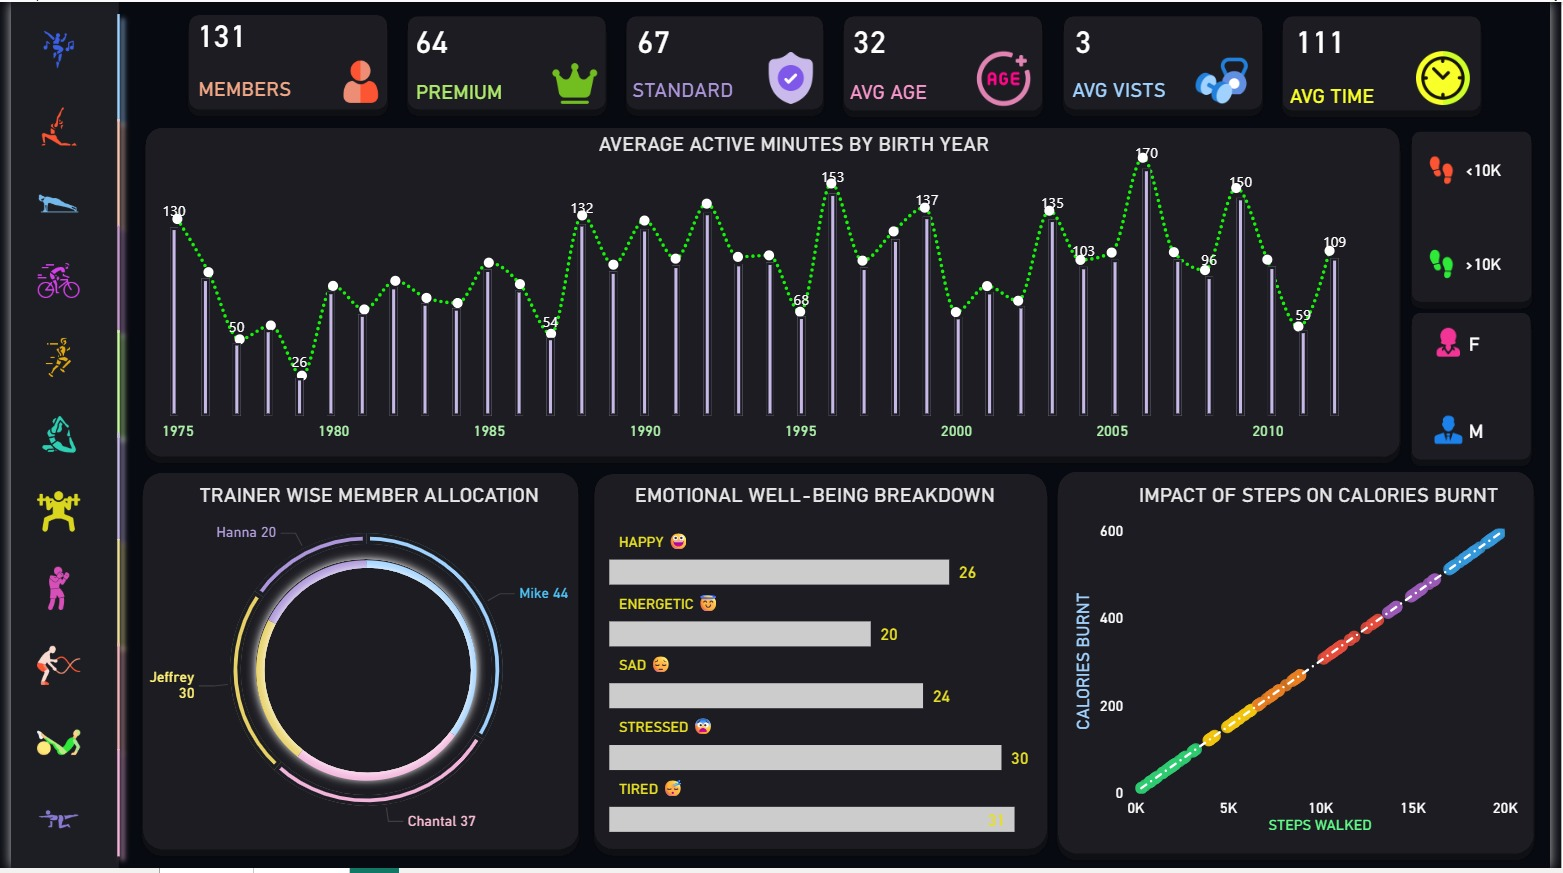

What the dashboard file says about the page in this screenshot:
{"tool":"powerbi","page":{"name":"Page 1","canvas":[1280,720],"ordinal":0},"visuals":[{"type":"shape","box":[163,4,175,96],"z":0,"group":"g8"},{"type":"shape","box":[344.3,4,175,96.7],"z":0,"group":"g9"},{"type":"shape","box":[526,4,175,96.7],"z":0,"group":"g10"},{"type":"shape","box":[706,4,175,96],"z":0,"group":"g11"},{"type":"shape","box":[888.3,4,175,96],"z":0,"group":"g12"},{"type":"shape","box":[1072.6,4,163.4,96.7],"z":0,"group":"g13"},{"type":"shape","box":[119,5,21.7,710],"z":0},{"type":"shape","box":[1149,104,121,153],"z":0,"group":"g7"},{"type":"shape","box":[151,106,987.6,302.9],"z":0,"group":"g5"},{"type":"shape","box":[1149,260,121,153],"z":0,"group":"g6"},{"type":"shape","box":[144.3,416,349.1,295],"z":0,"group":"g2"},{"type":"shape","box":[504,416,365,295],"z":0,"group":"g3"},{"type":"shape","box":[878,416,396.8,295],"z":0,"group":"g4"},{"type":"advancedSlicerVisual","fields":{"Values":["Gym Dataset (2).Value"]},"box":[25.4,0,109,719.4],"z":1000},{"type":"card","fields":{"Values":["Exercise.mem_count"]},"box":[163,4,77.1,54.1],"z":1000,"group":"g8"},{"type":"card","fields":{"Values":["Exercise.premium"]},"box":[333.3,4,82.7,49.1],"z":1000,"group":"g9"},{"type":"card","fields":{"Values":["Exercise.premium"]},"box":[516.5,4,81.3,49.1],"z":1000,"group":"g10"},{"type":"card","fields":{"Values":["Exercise.Avg_age"]},"box":[699.7,4,69.2,47.6],"z":1000,"group":"g11"},{"type":"card","fields":{"Values":["Exercise.Avg_visits"]},"box":[879,4,78.2,47.6],"z":1000,"group":"g12"},{"type":"card","fields":{"Values":["Exercise.Avg_time"]},"box":[1061,4,87.5,49.1],"z":1000,"group":"g13"},{"type":"advancedSlicerVisual","fields":{"Values":["Gym Dataset.steps_cat"]},"box":[1150,107.6,118.3,147],"z":1000,"group":"g7"},{"type":"lineClusteredColumnComboChart","title":"AVERAGE ACTIVE MINUTES BY BIRTH YEAR","fields":{"Category":["Gym Dataset.birthday.Variation.Date Hierarchy.Year"],"Y":["Exercise.Avg_Active_Minutes_Column"],"Y2":["Exercise.Avg_Active_Minutes_Line"]},"box":[158.2,109.7,971,304.3],"z":1000,"group":"g5"},{"type":"advancedSlicerVisual","fields":{"Values":["Gym Dataset.gender"]},"box":[1150,263,119.9,148.3],"z":1000,"group":"g6"},{"type":"group","id":"g1","title":"visuals","box":[129,412,387.8,304.2],"z":1000,"group":"g2"},{"type":"donutChart","title":"TRAINER WISE MEMBER ALLOCATION","fields":{"Category":["Gym Dataset.name_personal_trainer"],"Y":["CountNonNull(Gym Dataset.id)"]},"box":[129,418.2,387.8,298],"z":1000,"group":"g1"},{"type":"clusteredBarChart","title":"EMOTIONAL WELL-BEING BREAKDOWN","fields":{"Category":["Gym Dataset.mood"],"Y":["CountNonNull(Gym Dataset.mood)","CountNonNull(Gym Dataset.id)"]},"box":[516.7,437.7,357,266.4],"z":1000,"group":"g3"},{"type":"actionButton","box":[545,412,313.8,41.3],"z":1500,"group":"g3"},{"type":"actionButton","box":[924,412,342.5,41.7],"z":1500,"group":"g4"},{"type":"shape","box":[234,477.6,178,178],"z":1500,"group":"g1"},{"type":"image","box":[277,50.8,69.7,47],"z":2000,"group":"g8"},{"type":"actionButton","box":[719.3,51.6,150.2,47.6],"z":2000,"group":"g11"},{"type":"actionButton","box":[892.3,53,159.1,47.6],"z":2000,"group":"g12"},{"type":"actionButton","box":[351.2,53.1,157.1,46.2],"z":2000,"group":"g9"},{"type":"actionButton","box":[528.9,53.1,162.6,46.2],"z":2000,"group":"g10"},{"type":"actionButton","box":[1072.6,53.1,151.8,49.1],"z":2000,"group":"g13"},{"type":"actionButton","box":[449.4,105.1,407.7,45.3],"z":2000,"group":"g5"},{"type":"group","id":"g2","title":"donut","box":[129,412,387.8,304.2],"z":2000},{"type":"donutChart","fields":{"Category":["Gym Dataset.name_personal_trainer"],"Y":["CountNonNull(Gym Dataset.id)"]},"box":[179,459,286.8,215],"z":2000,"group":"g1"},{"type":"actionButton","box":[172,412,293.7,41.3],"z":2500,"group":"g1"},{"type":"image","box":[1173,46,60.5,49.1],"z":3000,"group":"g13"},{"type":"image","box":[818,48.8,61.4,47.6],"z":3000,"group":"g11"},{"type":"image","box":[1004,48.8,62.3,47.6],"z":3000,"group":"g12"},{"type":"image","box":[642,50.2,64.8,49.1],"z":3000,"group":"g10"},{"type":"image","box":[457,53.1,64.8,49.1],"z":3000,"group":"g9"},{"type":"actionButton","box":[163,53.7,172,48.3],"z":3000,"group":"g8"},{"type":"group","id":"g3","title":"bar","box":[504,412,369.7,299],"z":3000},{"type":"group","id":"g4","title":"line","box":[878,412,396.8,299],"z":4000},{"type":"group","id":"g5","title":"birth year","box":[151,105.1,987.6,308.9],"z":5000},{"type":"group","id":"g6","title":"gender","box":[1149,260,121,153],"z":6000},{"type":"group","id":"g7","title":"steps","box":[1149,104,121,153],"z":7000},{"type":"group","id":"g8","title":"members","box":[163,4,183.7,98],"z":8000},{"type":"group","id":"g9","title":"premium","box":[333.3,4,188.5,98.1],"z":9000},{"type":"group","id":"g10","title":"standard","box":[516.5,4,190.3,96.7],"z":10000},{"type":"group","id":"g11","title":"age","box":[699.7,4,181.3,96],"z":11000},{"type":"group","id":"g12","title":"visits","box":[879,4,187.3,96.6],"z":12000},{"type":"group","id":"g13","title":"time","box":[1061,4,175,98.1],"z":13000},{"type":"lineChart","fields":{"Category":["Gym Dataset.steps"],"Y":["Sum(Gym Dataset.calories_burned)"],"Series":["Gym Dataset.steps_color"]},"box":[945,457,316,219.3],"z":14000,"group":"g14"},{"type":"lineChart","fields":{"Category":["Gym Dataset.steps"],"Y":["Sum(Gym Dataset.calories_burned)"]},"box":[891.6,454.5,373.7,261.1],"z":15000,"group":"g14"},{"type":"group","id":"g14","title":"linechart","box":[891.6,454.5,373.7,261.1],"z":15001}]}

Visuals, with their boxes on the page's 1280x720 design canvas (x1, y1, x2, y2). These are canvas units, not pixel positions in the 1563x873 screenshot, which may show the page scaled, cropped or inside an application window:
shape: 163,4,338,100
shape: 344,4,519,101
shape: 526,4,701,101
shape: 706,4,881,100
shape: 888,4,1063,100
shape: 1073,4,1236,101
shape: 119,5,141,715
shape: 1149,104,1270,257
shape: 151,106,1139,409
shape: 1149,260,1270,413
shape: 144,416,493,711
shape: 504,416,869,711
shape: 878,416,1275,711
advancedSlicerVisual - Gym Dataset (2).Value: 25,0,134,719
card - Exercise.mem_count: 163,4,240,58
card - Exercise.premium: 333,4,416,53
card - Exercise.premium: 516,4,598,53
card - Exercise.Avg_age: 700,4,769,52
card - Exercise.Avg_visits: 879,4,957,52
card - Exercise.Avg_time: 1061,4,1148,53
advancedSlicerVisual - Gym Dataset.steps_cat: 1150,108,1268,255
"AVERAGE ACTIVE MINUTES BY BIRTH YEAR" lineClusteredColumnComboChart: 158,110,1129,414
advancedSlicerVisual - Gym Dataset.gender: 1150,263,1270,411
"visuals" group: 129,412,517,716
"TRAINER WISE MEMBER ALLOCATION" donutChart: 129,418,517,716
"EMOTIONAL WELL-BEING BREAKDOWN" clusteredBarChart: 517,438,874,704
actionButton: 545,412,859,453
actionButton: 924,412,1266,454
shape: 234,478,412,656
image: 277,51,347,98
actionButton: 719,52,870,99
actionButton: 892,53,1051,101
actionButton: 351,53,508,99
actionButton: 529,53,692,99
actionButton: 1073,53,1224,102
actionButton: 449,105,857,150
"donut" group: 129,412,517,716
donutChart - Gym Dataset.name_personal_trainer x CountNonNull(Gym Dataset.id): 179,459,466,674
actionButton: 172,412,466,453
image: 1173,46,1234,95
image: 818,49,879,96
image: 1004,49,1066,96
image: 642,50,707,99
image: 457,53,522,102
actionButton: 163,54,335,102
"bar" group: 504,412,874,711
"line" group: 878,412,1275,711
"birth year" group: 151,105,1139,414
"gender" group: 1149,260,1270,413
"steps" group: 1149,104,1270,257
"members" group: 163,4,347,102
"premium" group: 333,4,522,102
"standard" group: 516,4,707,101
"age" group: 700,4,881,100
"visits" group: 879,4,1066,101
"time" group: 1061,4,1236,102
lineChart - Gym Dataset.steps x Sum(Gym Dataset.calories_burned): 945,457,1261,676
lineChart - Gym Dataset.steps x Sum(Gym Dataset.calories_burned): 892,454,1265,716
"linechart" group: 892,454,1265,716
